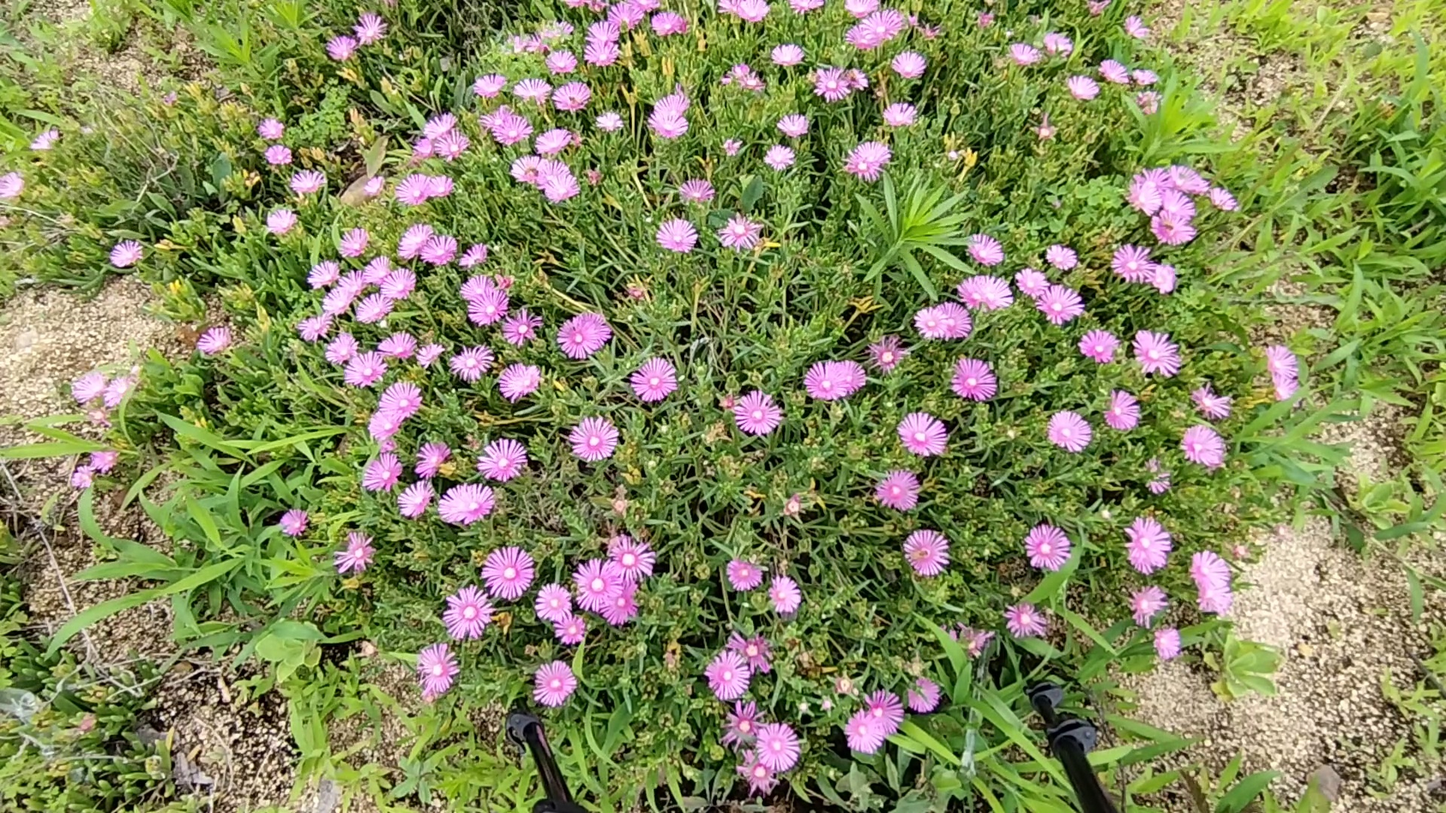bees: (1157, 219, 1175, 232), (910, 549, 931, 560), (520, 166, 541, 177), (844, 69, 860, 83), (567, 94, 584, 106)
